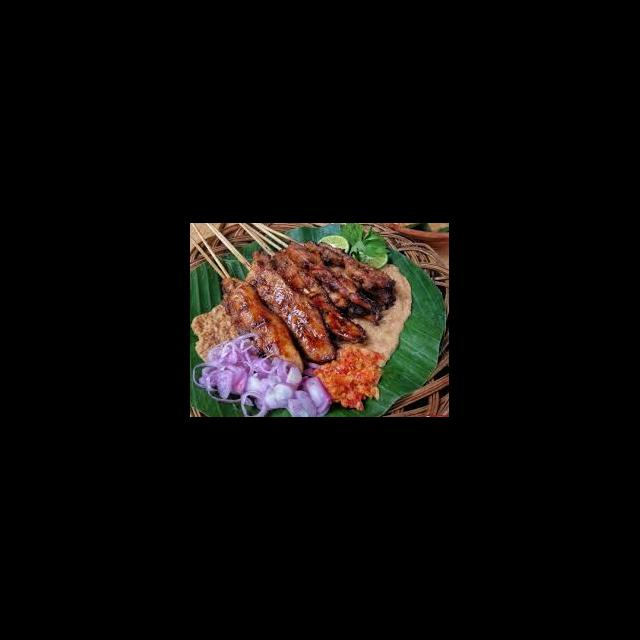food_waste: (253, 280, 383, 377)
